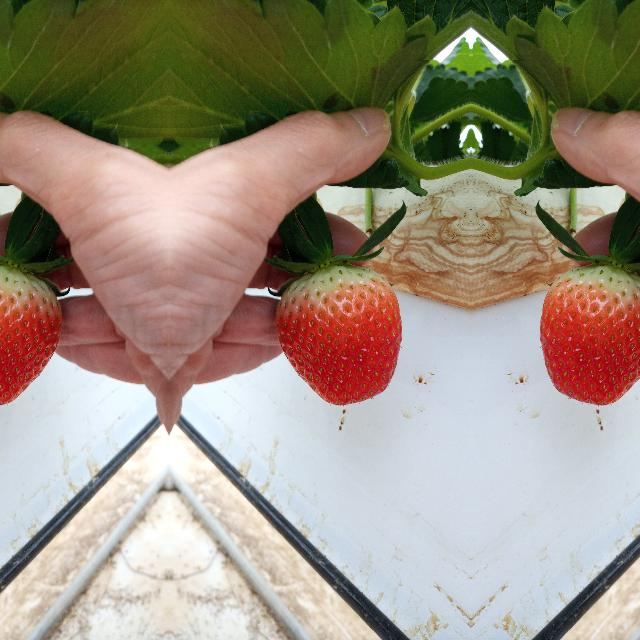Health_100: (274, 266, 402, 408), (539, 266, 640, 407), (0, 266, 62, 407)
